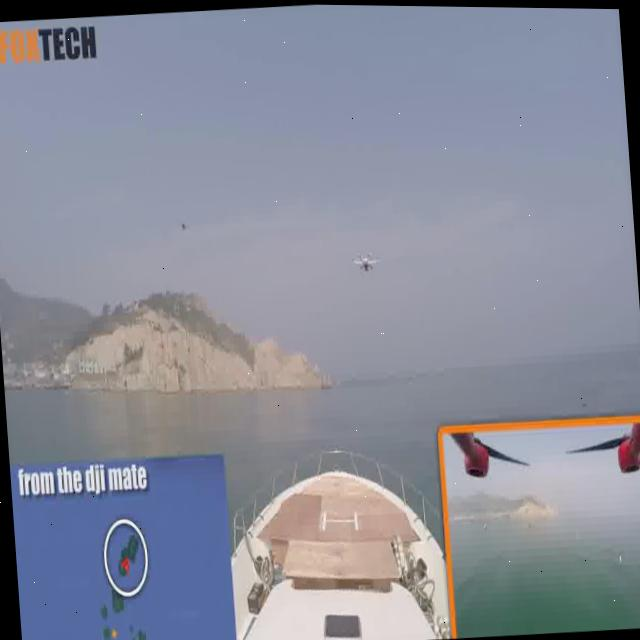drone: (22, 607, 640, 640)
